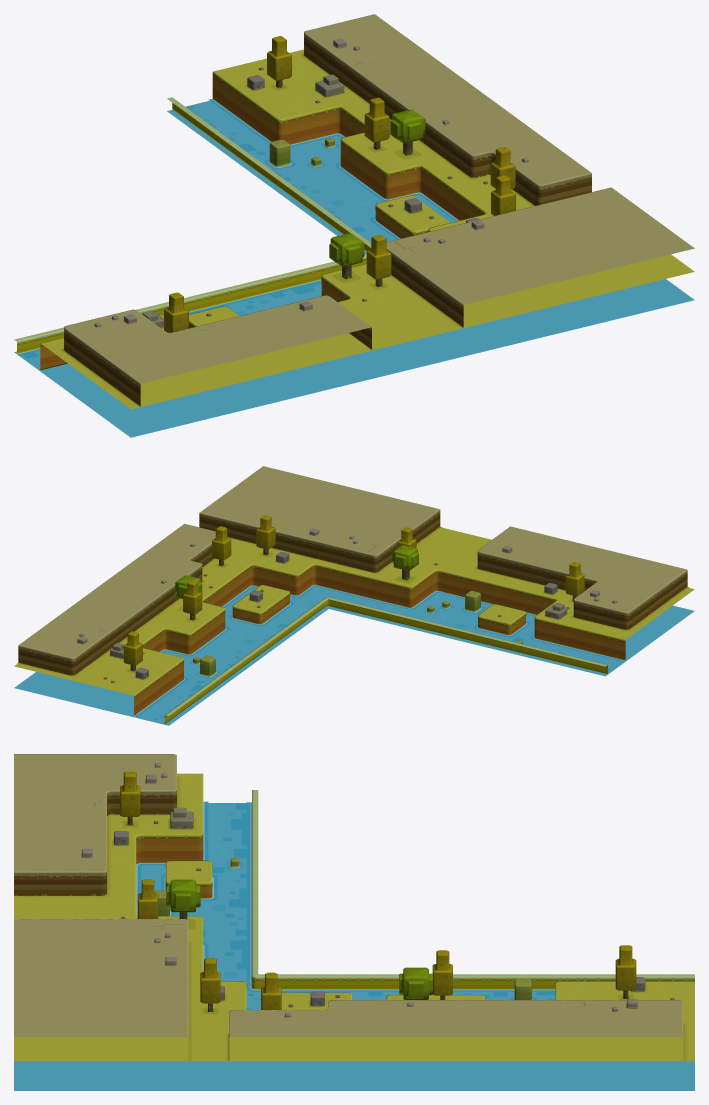
File: C_water2_out_LU.fbx
3 renders of one model, top to bottom at view 1: azimuth 30°, elevation 25°; view 2: azimuth 150°, elevation 25°; view 3: azimuth 270°, elevation 25°, orthographic. The views are drawn at different scales.
Visible parts, largest first — view 1: C_water2_out_LU; view 2: C_water2_out_LU; view 3: C_water2_out_LU.
Boxes of the visible parts, x1,y1,x2,y2 form: C_water2_out_LU: (14, 14, 694, 437); C_water2_out_LU: (14, 466, 694, 725); C_water2_out_LU: (14, 754, 694, 1090).
Size of the model in its own units: 117 by 15.34 by 117.
1 material, 1 textured.
